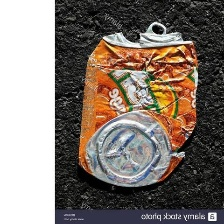can: (74, 18, 202, 189)
